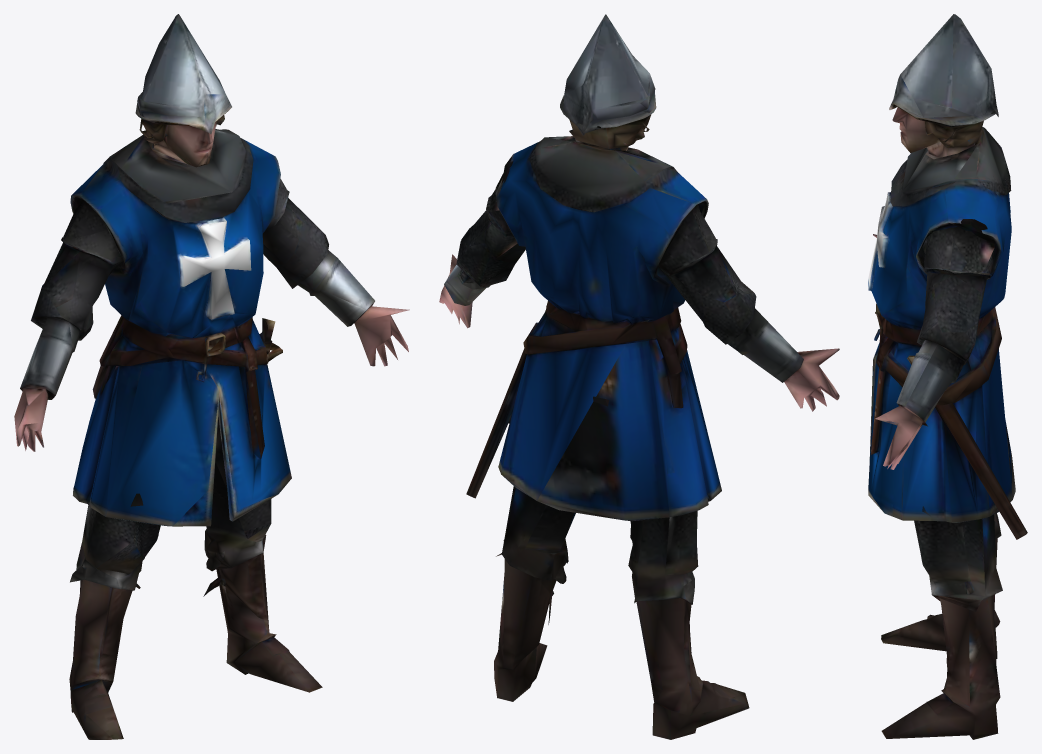
File: hum_inf_lo.glb
The picture shows the model from 3 angles, left to right: view 1: azimuth 30°, elevation 25°; view 2: azimuth 150°, elevation 25°; view 3: azimuth 270°, elevation 25°; orthographic projection.
Visible parts, largest first — view 1: node_0; view 2: node_0; view 3: node_0.
Boxes of the visible parts, left/top/right/bottom form: node_0: left=14, top=14, right=409, bottom=739; node_0: left=439, top=14, right=839, bottom=739; node_0: left=868, top=14, right=1027, bottom=739.
Size of the model in its own units: 0.6827 by 1.13 by 0.2417.
Materials: 1 (1 with a texture image).
